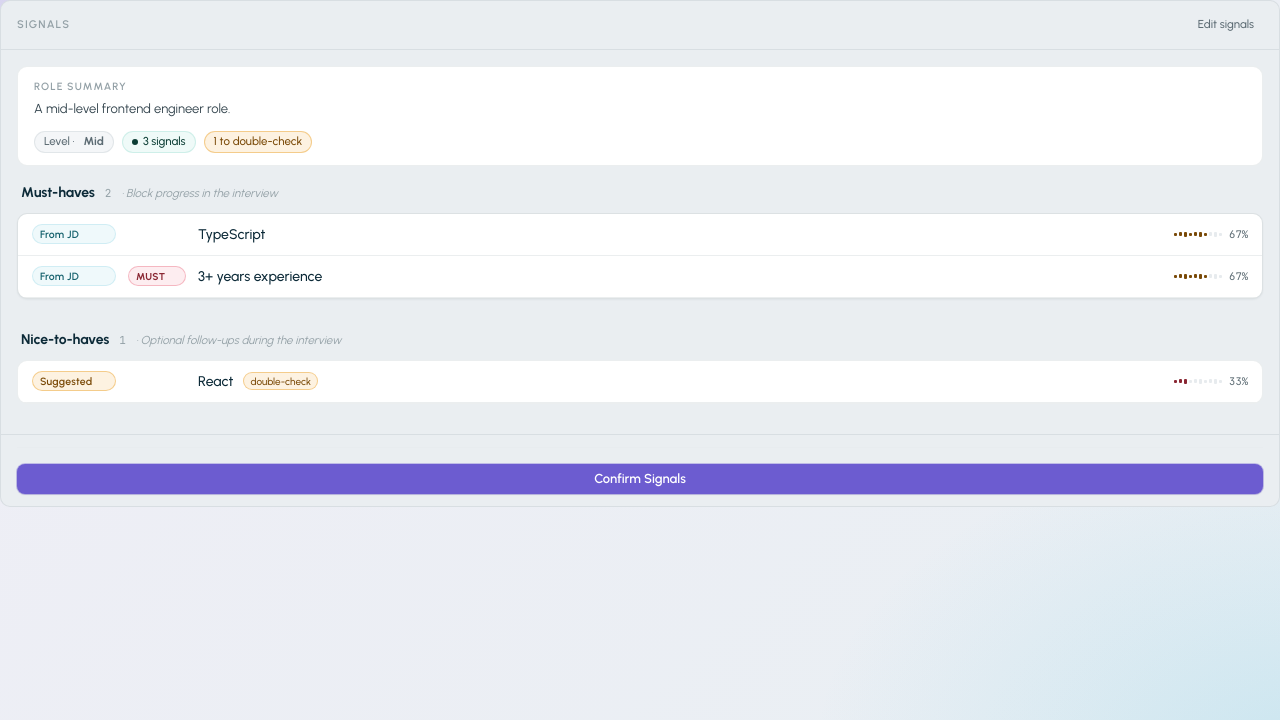
SignalsPanelWrapper › toggles to edit mode on click
This screenshot has width=1280, height=720.
What coordinates should you click on to do the following:
click the button "Edit signals"
I would click on:
 (1226, 25)
Its box is [1189,13,1263,37].
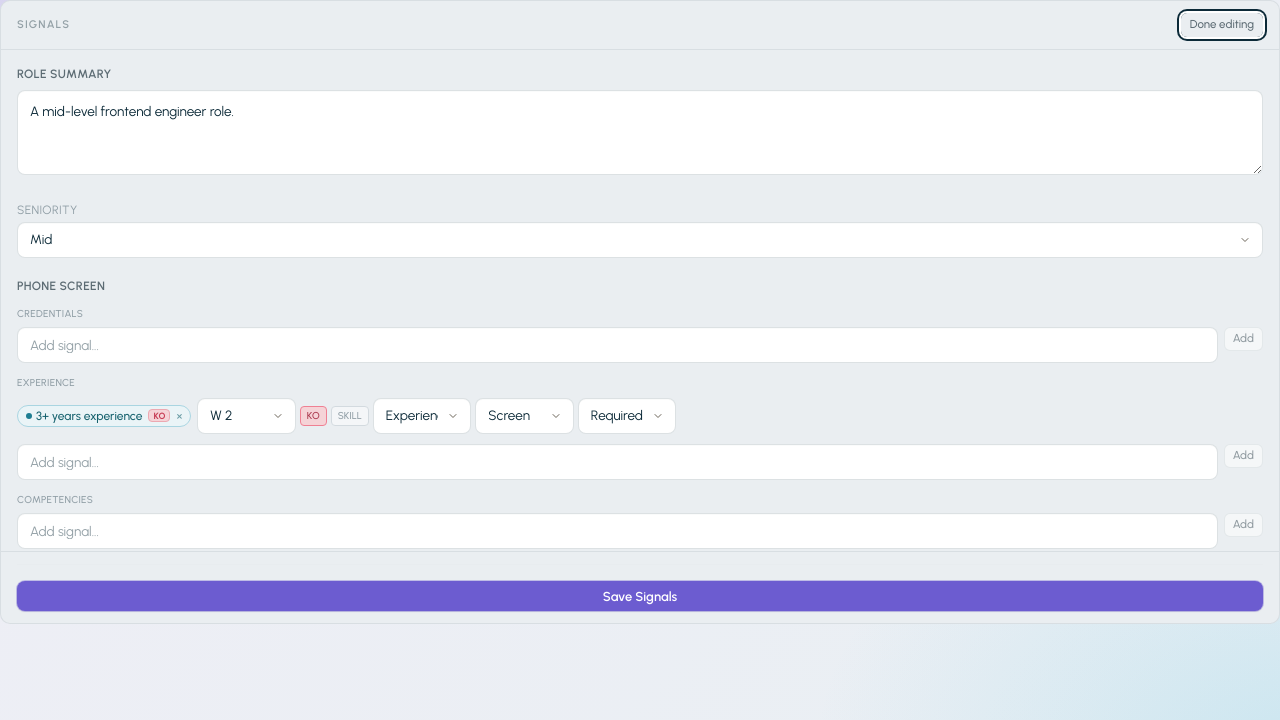
Expected: the button "Done editing" is shown, [1181,13,1263,37]
Expected: the button "Save Signals" is shown, [17,581,1263,611]
